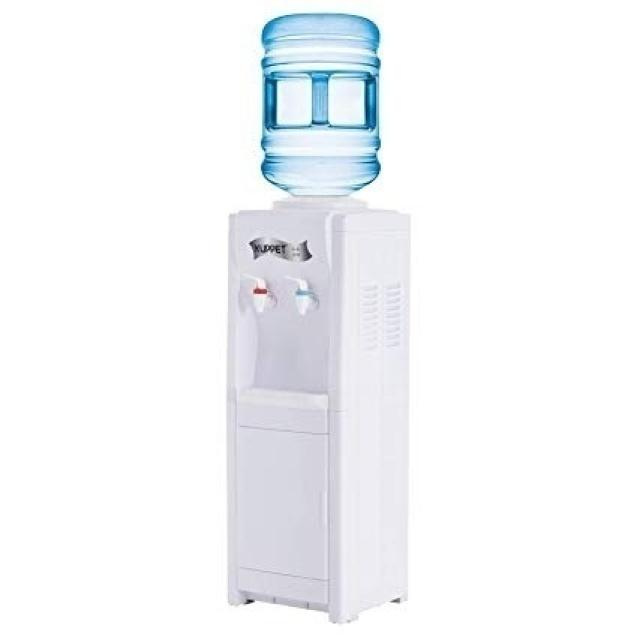Dispenser: (227, 12, 408, 623)
